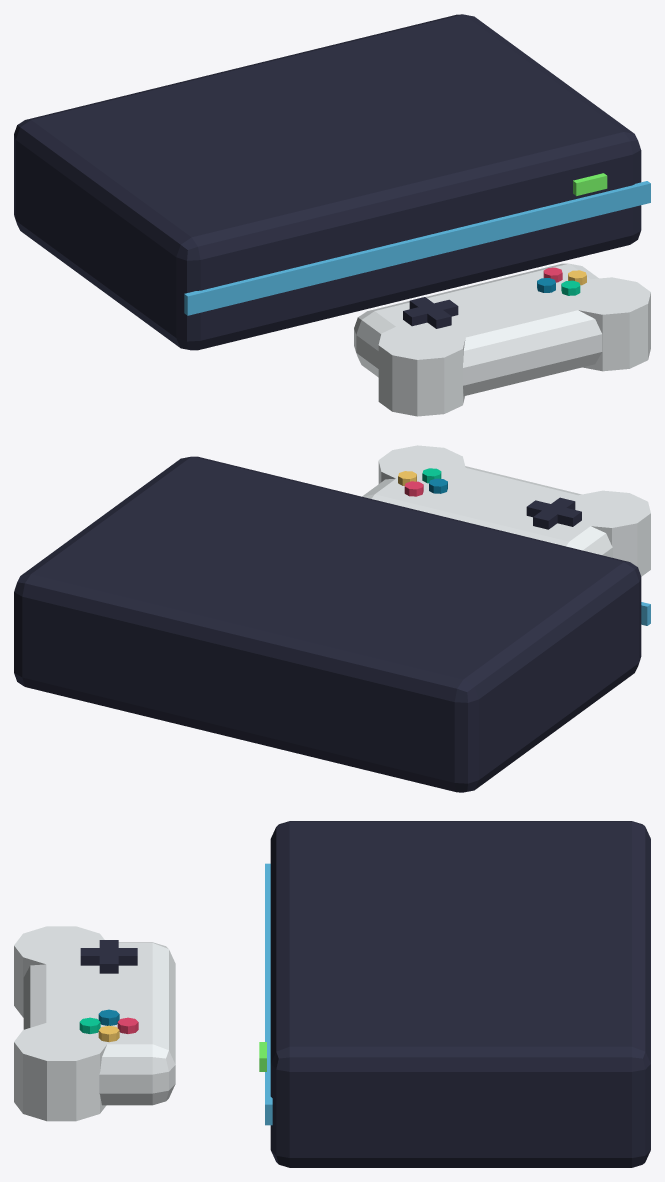
The model's file is videogame.glb.
3 views of the same model, one above another, from view 1: azimuth 30°, elevation 25°; view 2: azimuth 150°, elevation 25°; view 3: azimuth 270°, elevation 25° (orthographic). The views are drawn at different scales.
Visible parts, largest first — view 1: videogame; view 2: videogame; view 3: videogame.
Boxes of the visible parts, x1,y1,x2,y2 form: videogame: [14, 14, 650, 416]; videogame: [14, 445, 650, 792]; videogame: [14, 821, 650, 1167].
Size of the model in its own units: 0.3 by 0.07 by 0.335.
